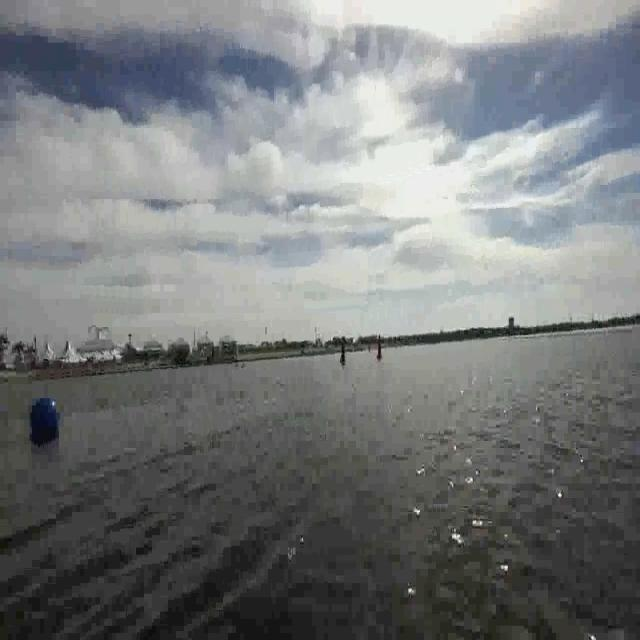blue-buoy: (29, 396, 60, 440)
green-column-buoy: (339, 336, 346, 368)
red-column-buoy: (377, 342, 383, 361)
